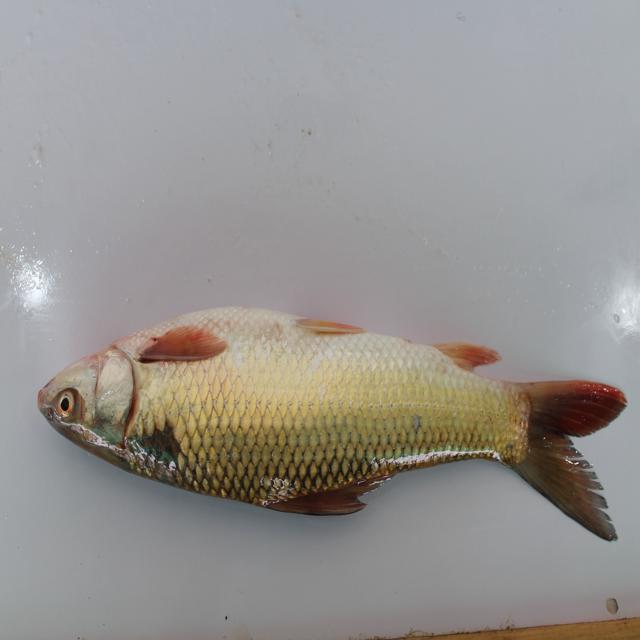Mori: (26, 297, 628, 546)
